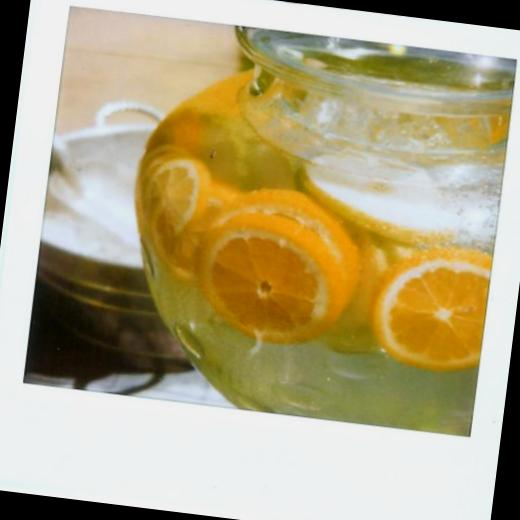Grape: (114, 124, 502, 376)
